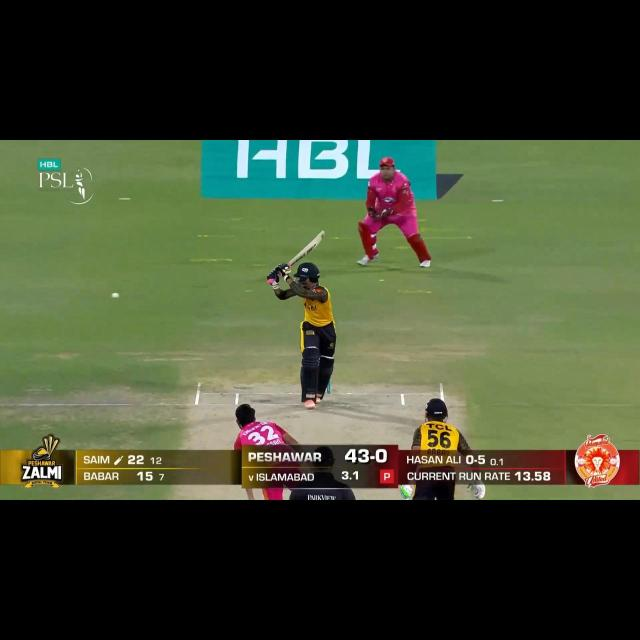bat: (288, 229, 325, 266)
toe: (317, 230, 325, 243)
